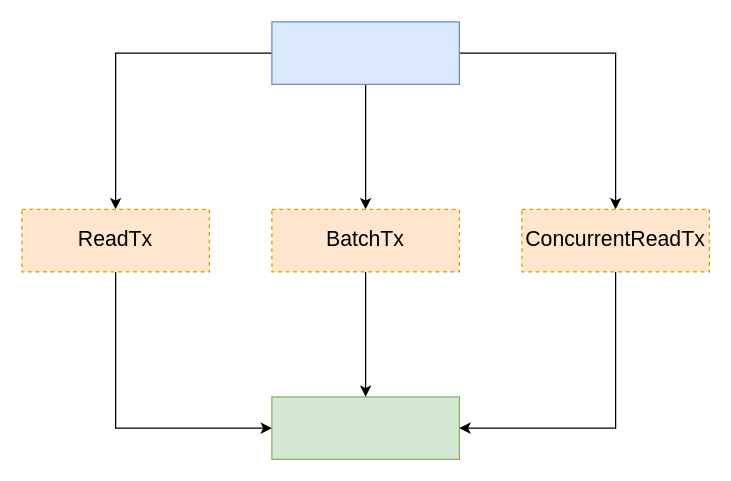
Some shapes in this 731 by 481 pixel diagram are drawn without their labels. The shapes that lost their labels are listed below. From the top down, each one's centre as x and y in pixels, then its label:
the point at 365,52: backend
the point at 365,427: blotDB
